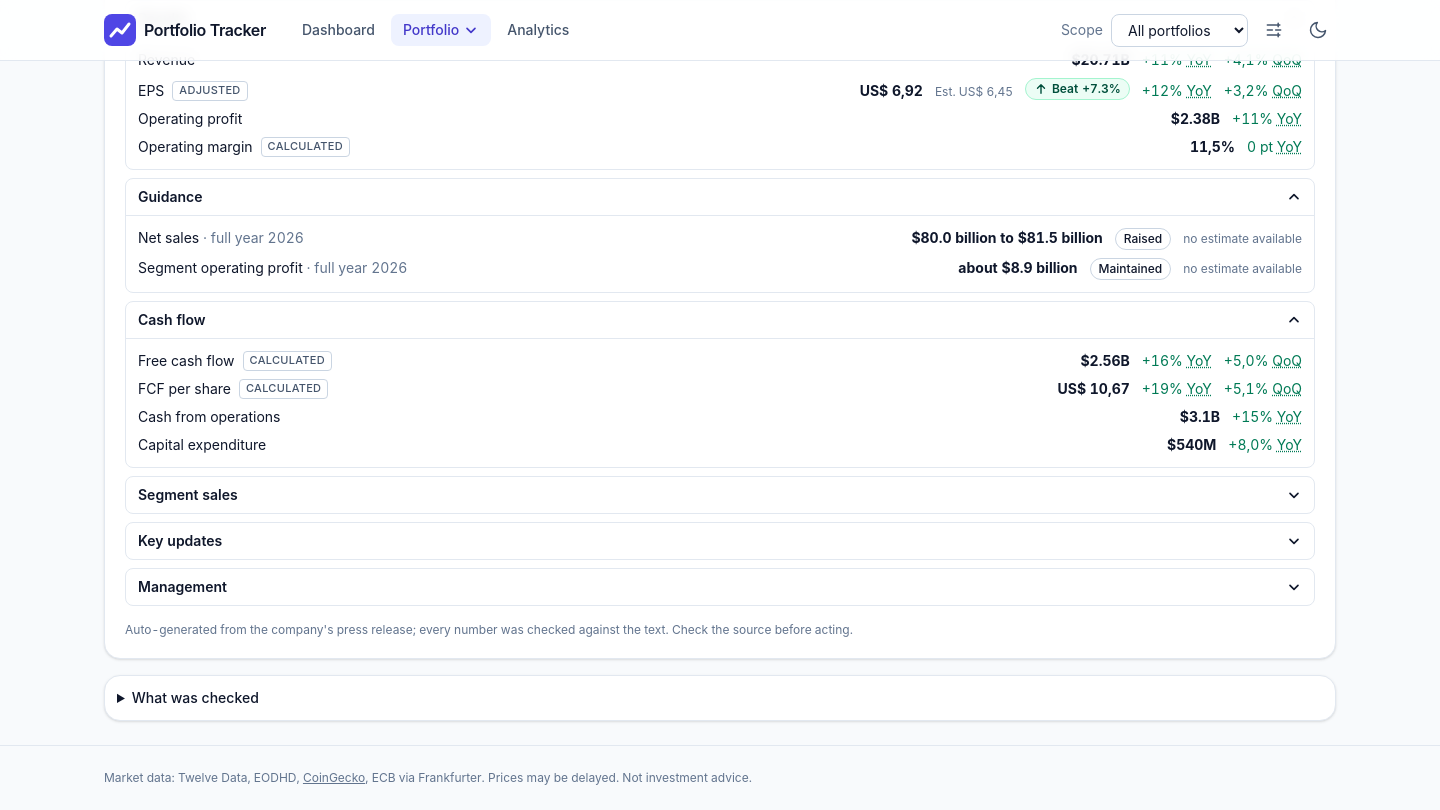
the page › "Fetch all now" asks for the backfill, once an hour, and says what happened
(page scrolled)
Click the heading "What was checked" at (195, 697), box [132,689,259,706]
(page scrolled)
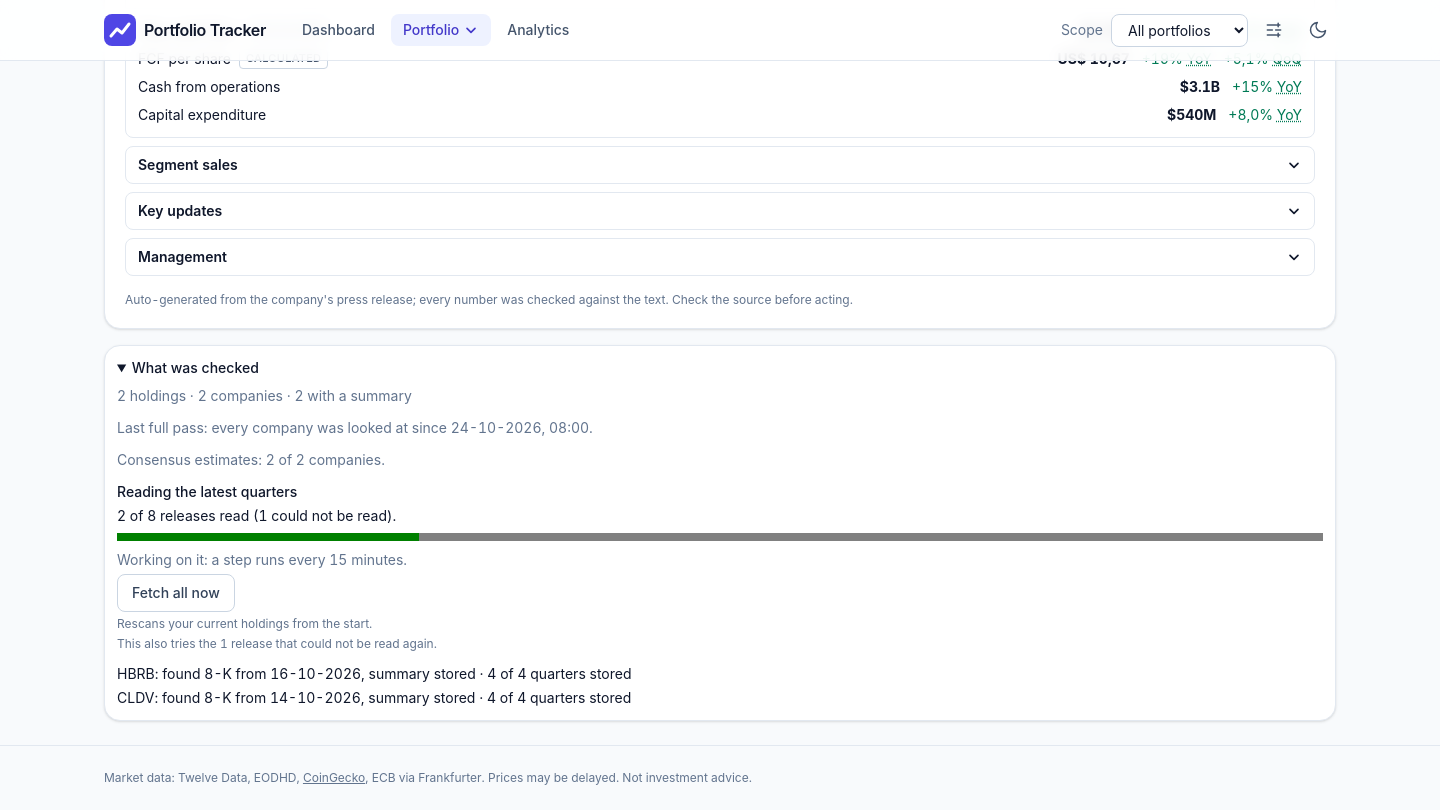
Now the text "This also tries the 1 release that could not be read again." is shown, box [117,636,437,651]
Click the button "Fetch all now" at (176, 593), box [117,574,235,612]
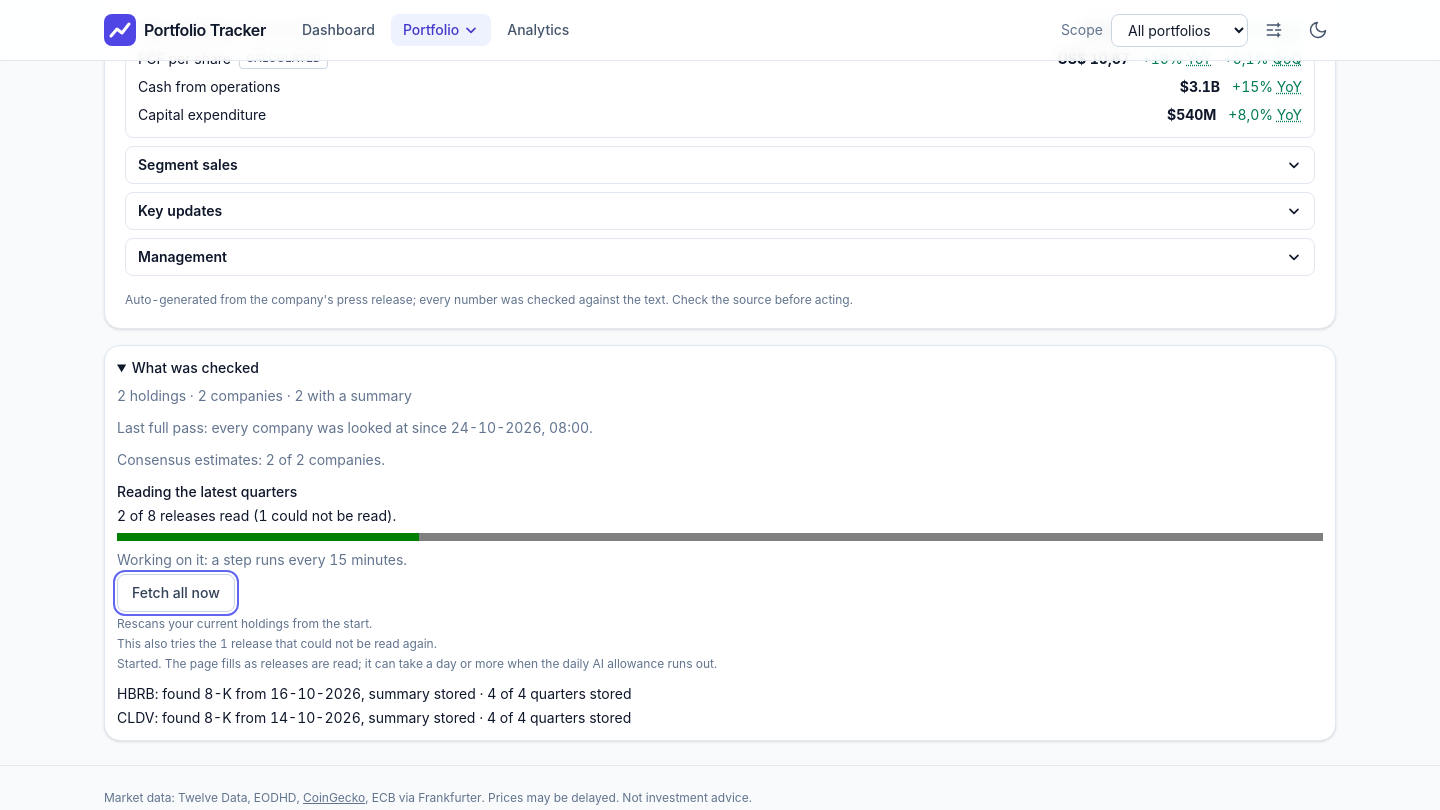
Now the text "Started. The page fills as releases are read" is shown, box [117,656,717,671]
Click the button "Fetch all now" at (176, 593), box [117,574,235,612]
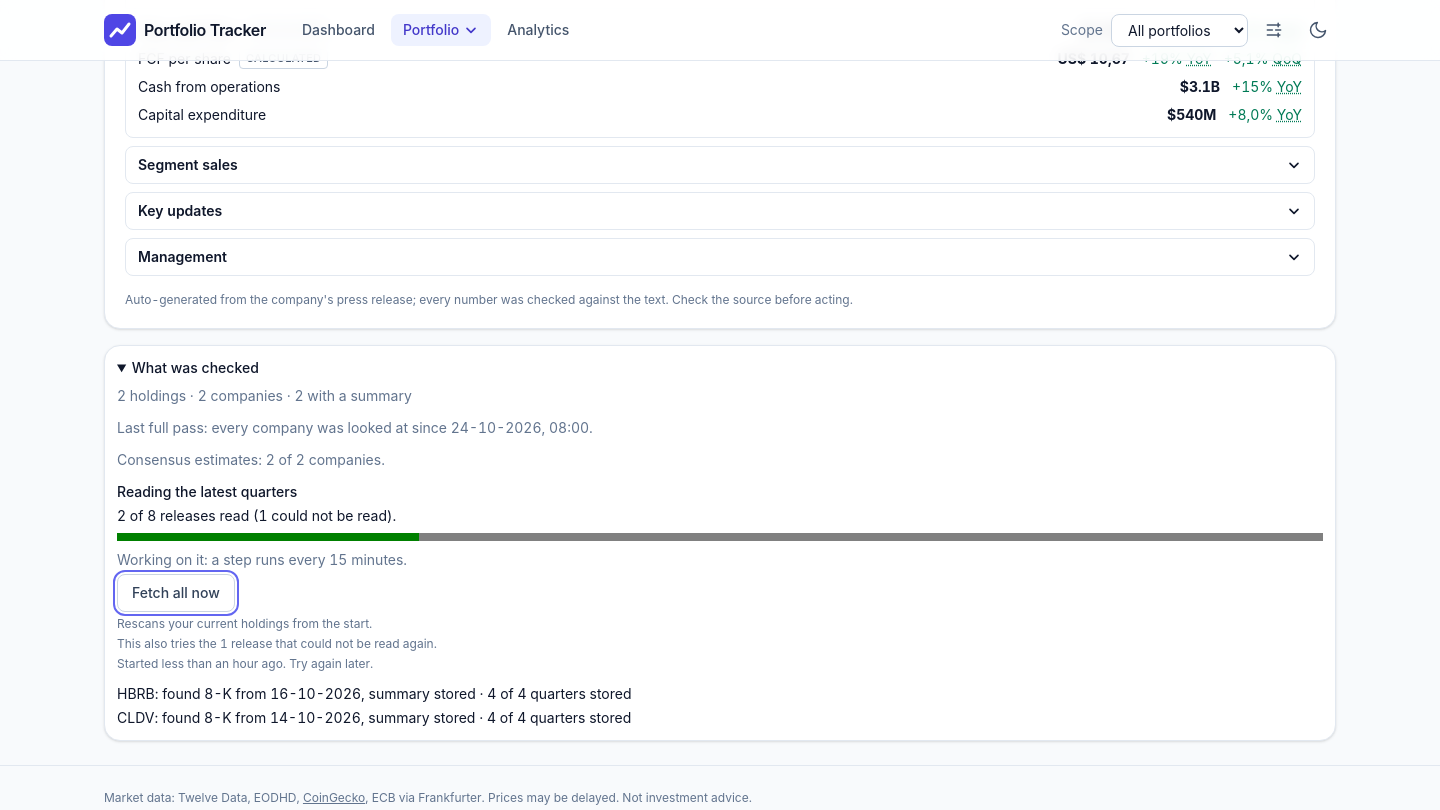
Now the text "Started less than an hour ago. Try again later." is shown, box [117,656,373,671]
Click the button "Fetch all now" at (176, 593), box [117,574,235,612]
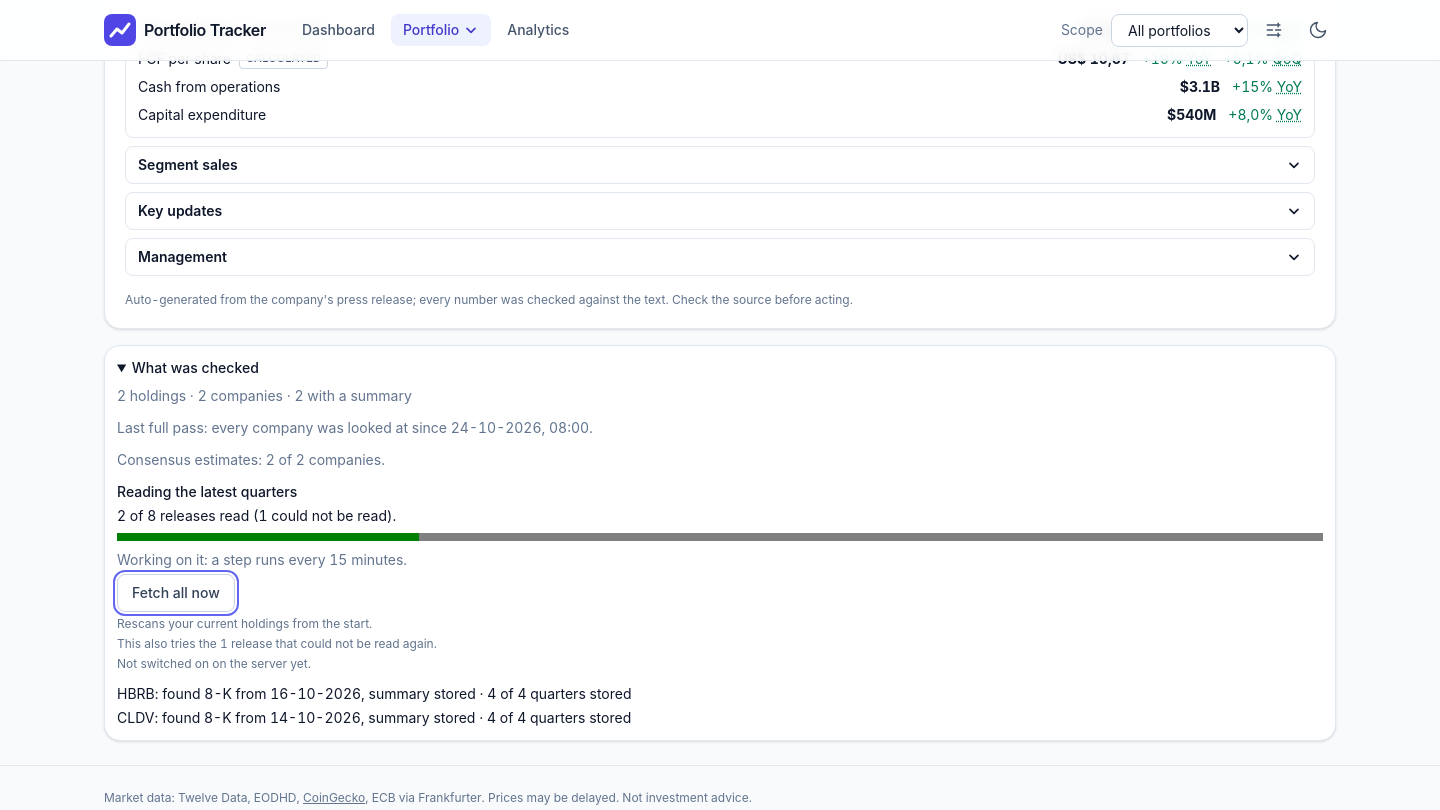
Now the text "Not switched on on the server yet." is shown, box [117,656,311,671]
Click the button "Fetch all now" at (176, 593), box [117,574,235,612]
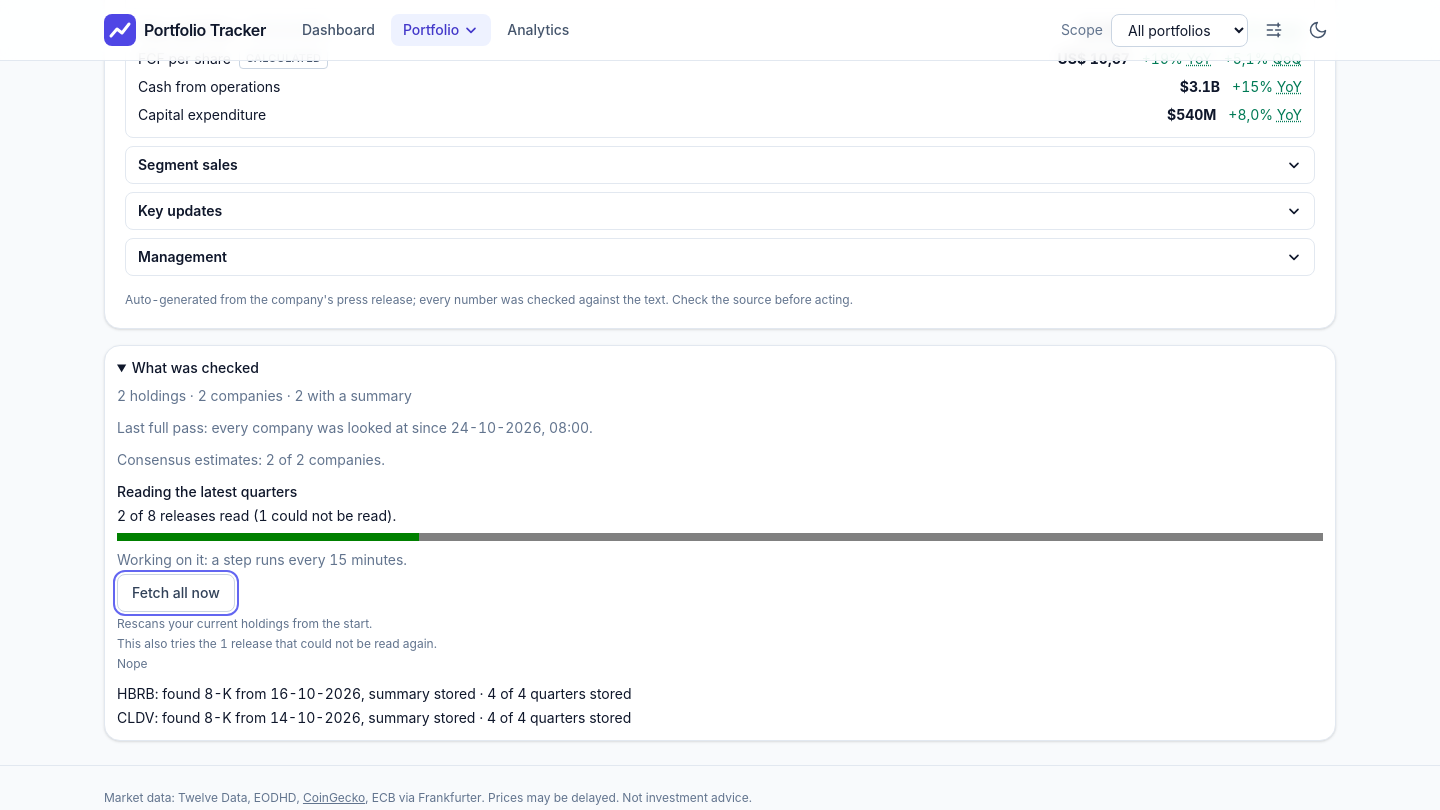
Now the text "Nope" is shown, box [117,656,148,671]
